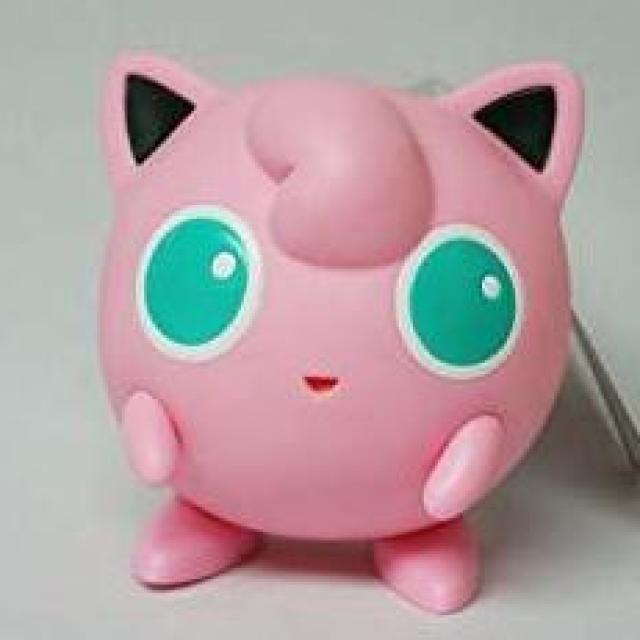Jigglypuff: (64, 35, 613, 605)
